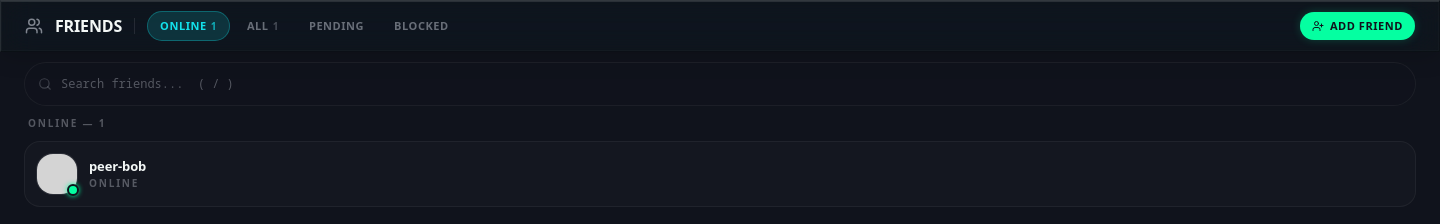
Test case: FriendsPanel › excludes the local identity from the friends list even when own presence exists
Click the button "ALL1".
click(263, 26)  # box 234,11 -> 292,41
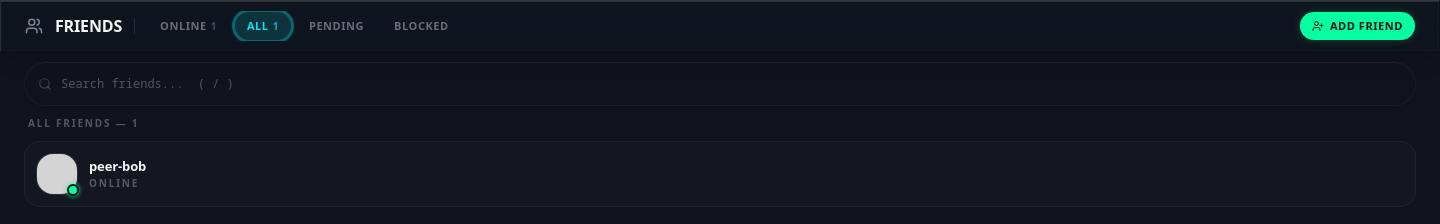
Now the text "ALL FRIENDS — 1" is shown, box 28,116 -> 139,130
